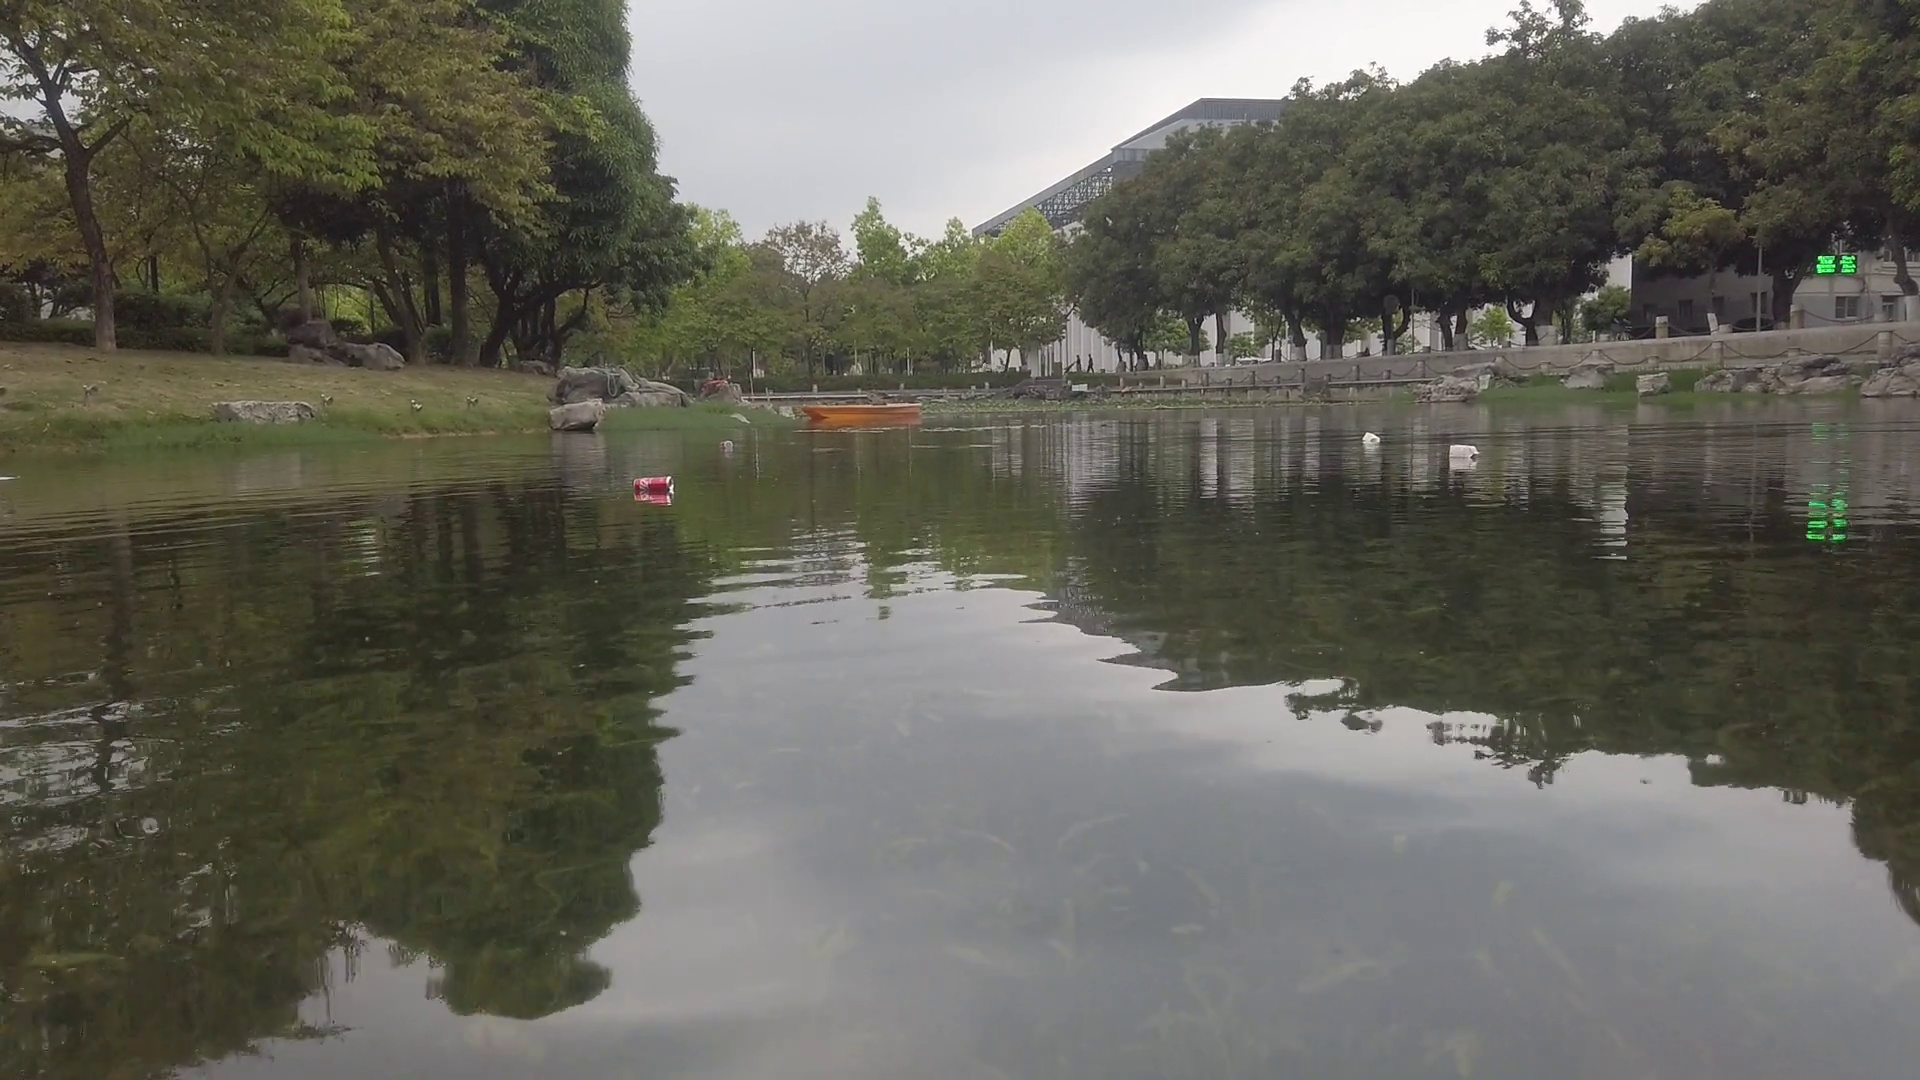bottle: (634, 476, 676, 491), (720, 439, 733, 450)
carton: (1451, 444, 1484, 462), (1364, 433, 1381, 447)
paper: (1, 469, 20, 481)
